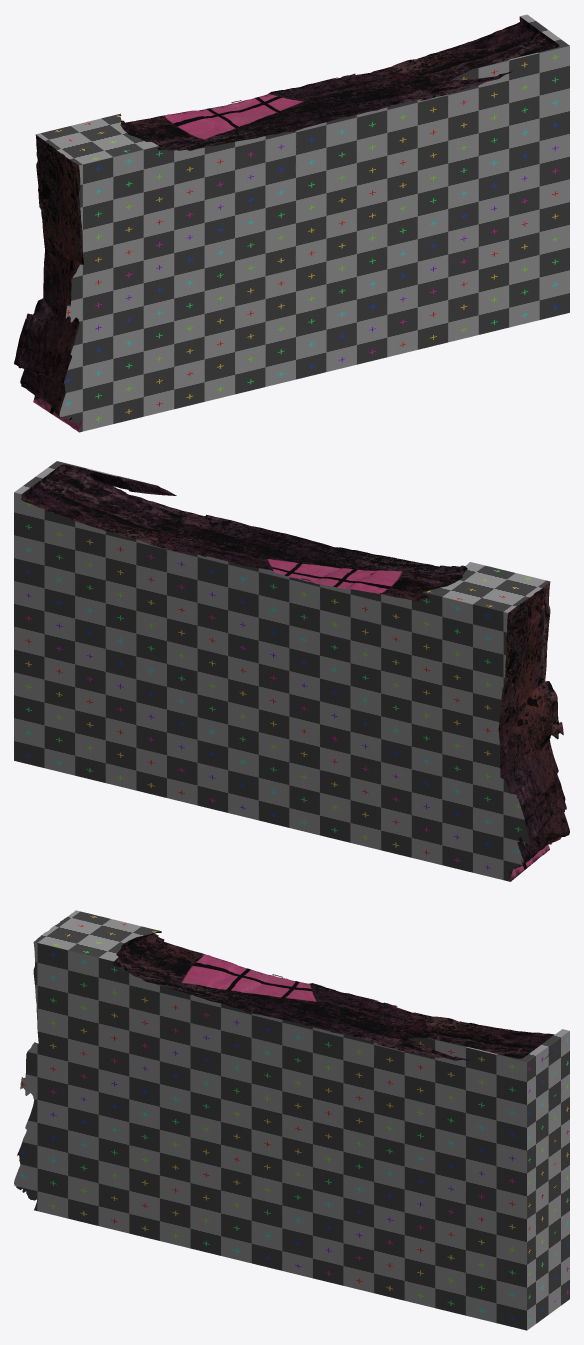
The model's file is wall05.glb.
3 renders of one model, top to bottom at view 1: azimuth 30°, elevation 25°; view 2: azimuth 150°, elevation 25°; view 3: azimuth 330°, elevation 25°, orthographic.
Visible parts, largest first — view 1: Wall.005; view 2: Wall.005; view 3: Wall.005.
Boxes of the visible parts, x1,y1,x2,y2 form: Wall.005: (14, 14, 569, 432); Wall.005: (14, 461, 569, 881); Wall.005: (14, 910, 569, 1330).
Bounding box in the file's own units: 3.25 × 1.61 × 0.4679.
Materials: 2 (2 with a texture image).
